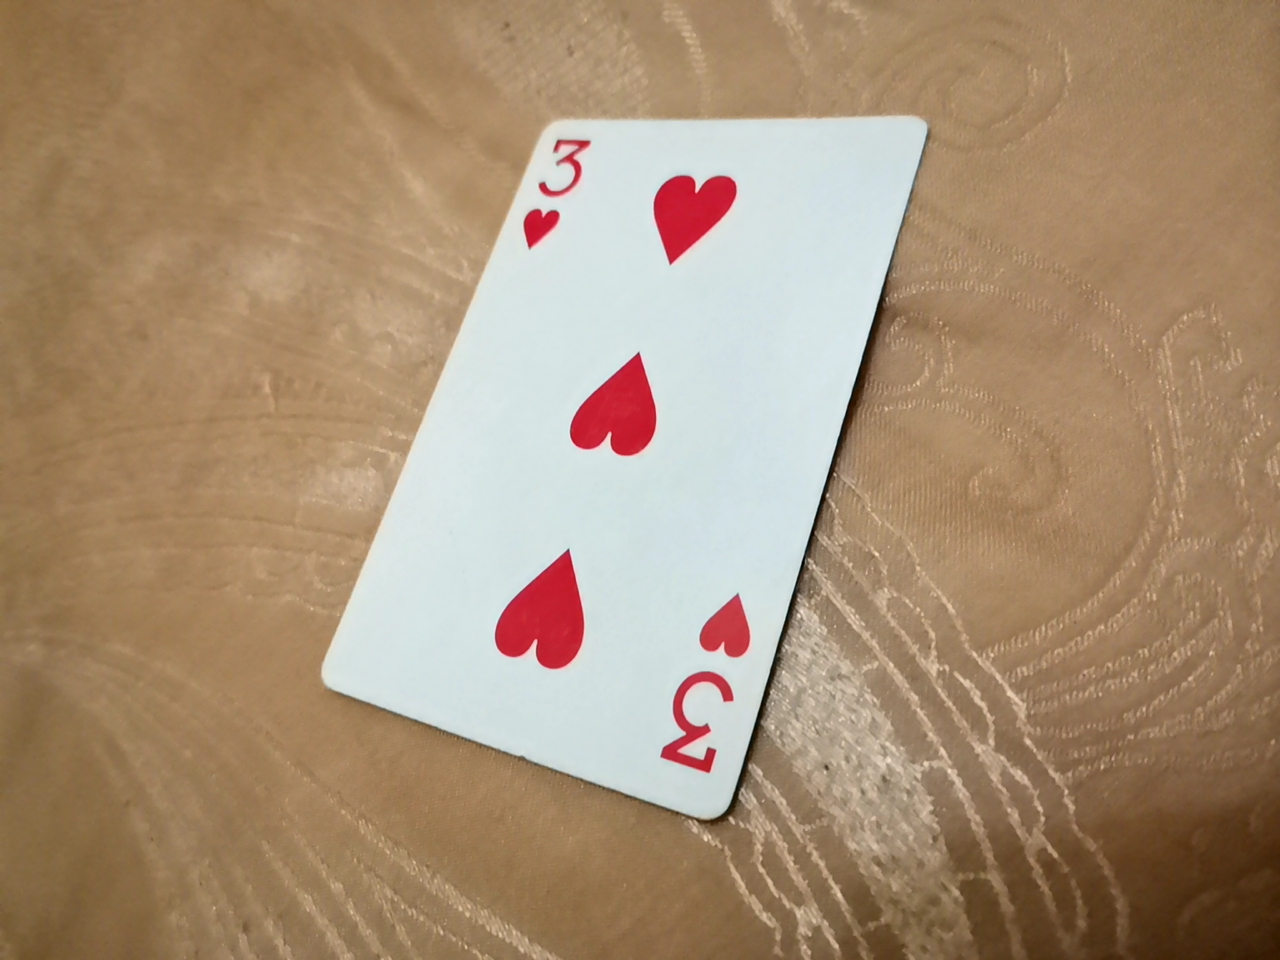hx 3: (329, 103, 922, 833)
